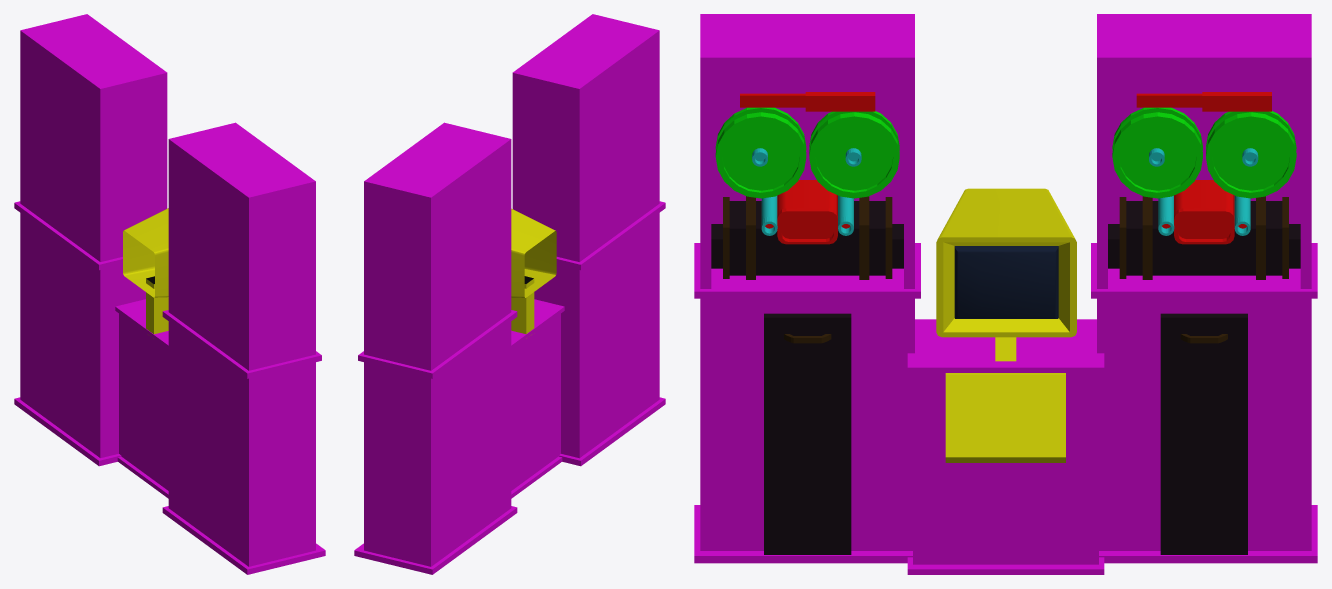
The model's file is SM_Ordinateur.fbx.
3 views of the same model, side by side, from view 1: azimuth 30°, elevation 25°; view 2: azimuth 150°, elevation 25°; view 3: azimuth 270°, elevation 25° (orthographic). The views are drawn at different scales.
Visible parts, largest first — view 1: polySurface6; view 2: polySurface6; view 3: polySurface6.
Boxes of the visible parts, x1,y1,x2,y2 form: polySurface6: (14, 14, 325, 574); polySurface6: (354, 14, 665, 574); polySurface6: (694, 14, 1317, 574).
Size of the model in its own units: 1.81 by 5.34 by 6.03.
